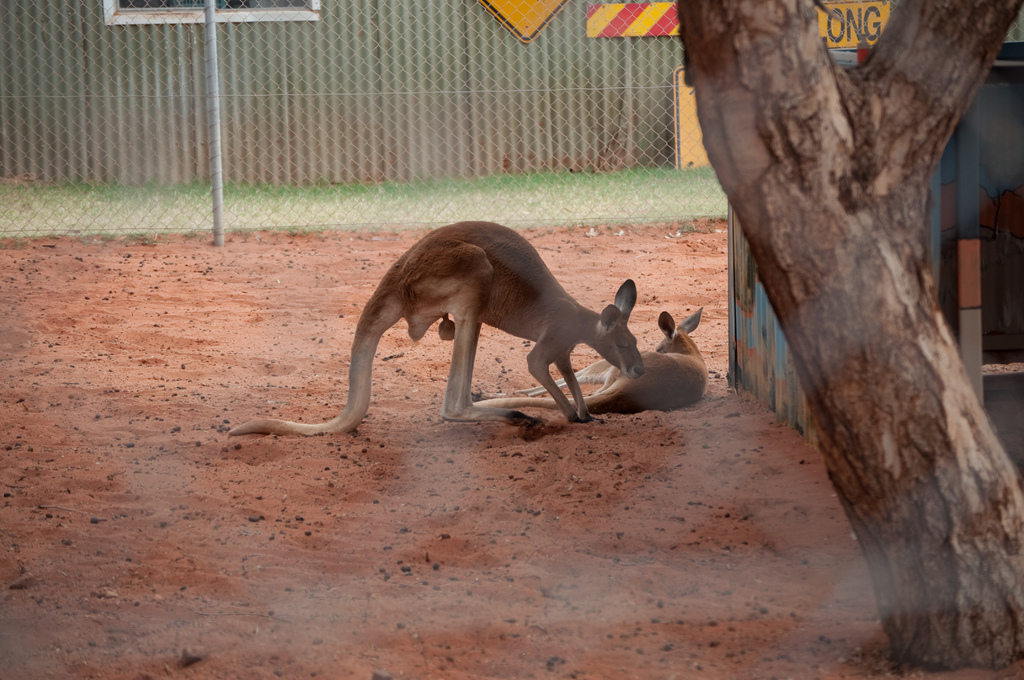kangaroo: (230, 220, 645, 436)
